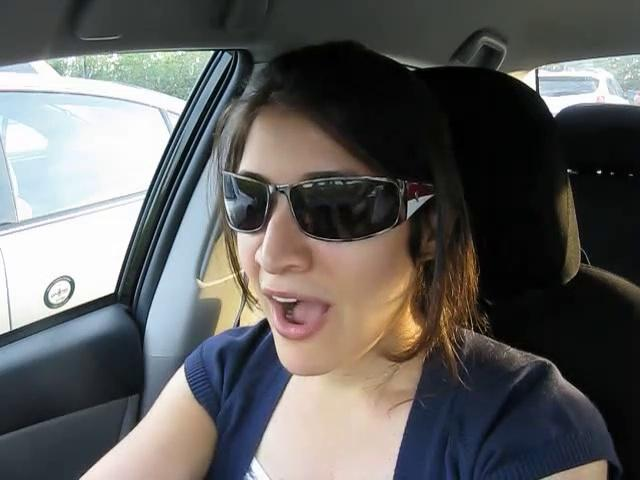yawn: (257, 281, 343, 341)
